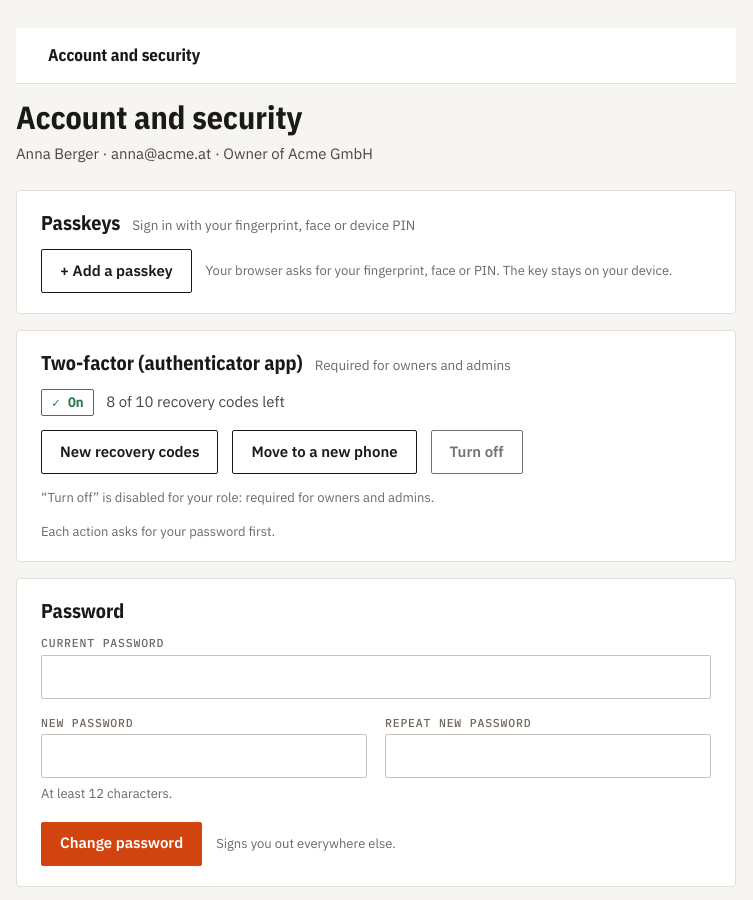
AccountSecurityPage (W4) › changes the password and says the other sessions are signed out
Step 1. Type "correct horse battery" into the password field labelled "Current password" → (376, 677), box [41,655,711,699]
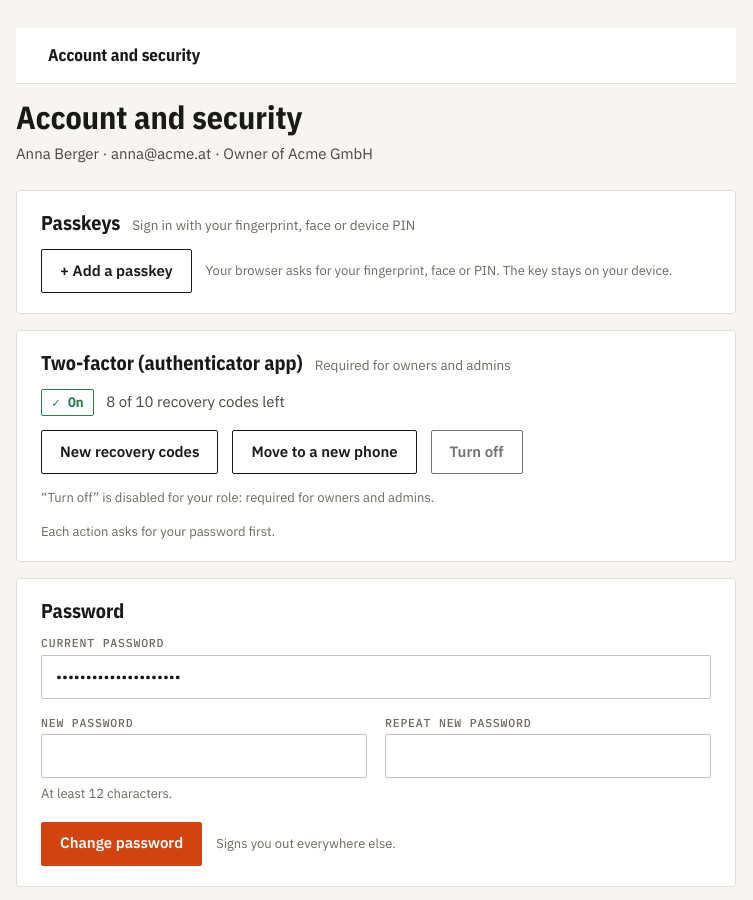
Step 2. Type "a brand new passphrase" into the password field labelled "New password" → (204, 756), box [41,734,367,778]
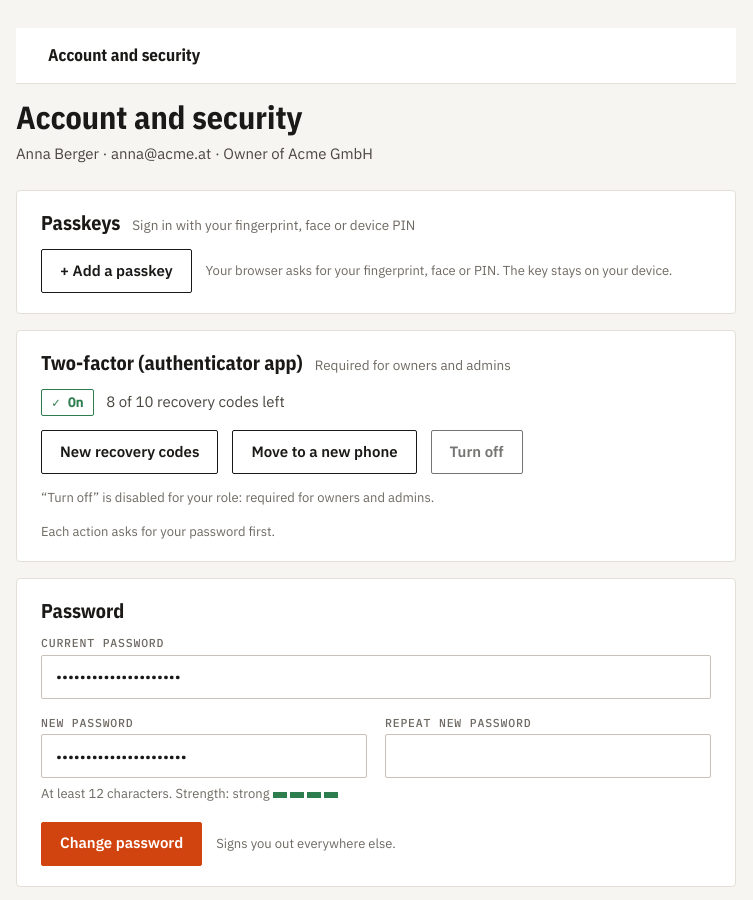
Step 3. Type "a brand new passphrase" into the password field labelled "Repeat new password" → (548, 756), box [385,734,711,778]
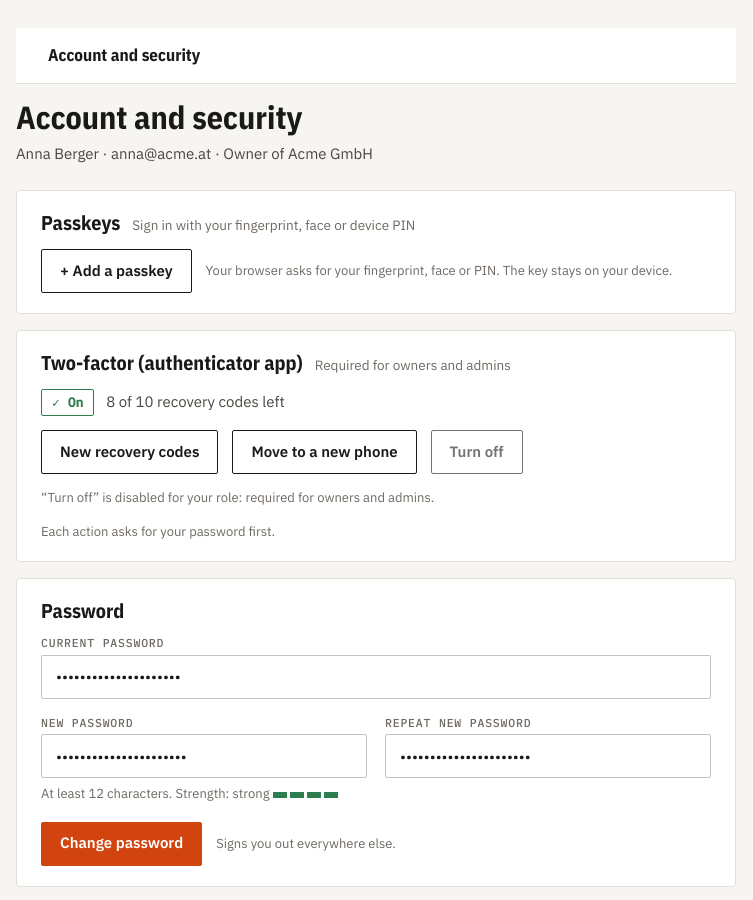
Step 4. Click the button "Change password" → (122, 844), box [41,822,202,866]
(page scrolled)
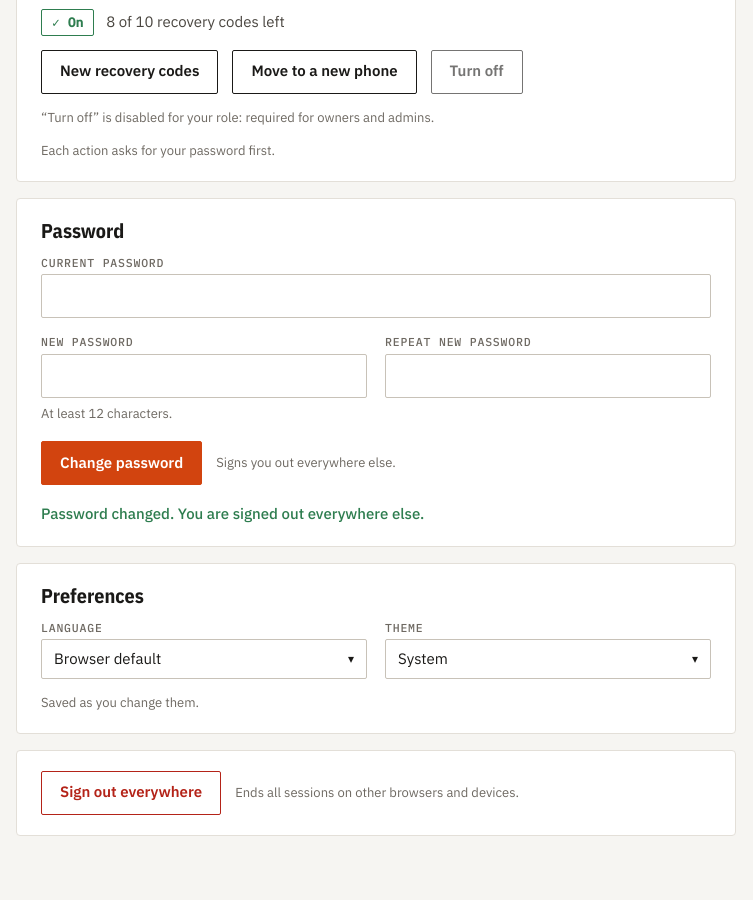
Expected: the text "Password changed. You are signed out everywhere else." is shown, [41,504,424,523]
